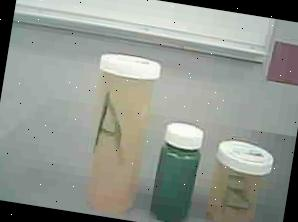Bottle A: (72, 50, 164, 220)
Bottle B: (203, 130, 277, 222)
Bottle C: (144, 115, 209, 222)
